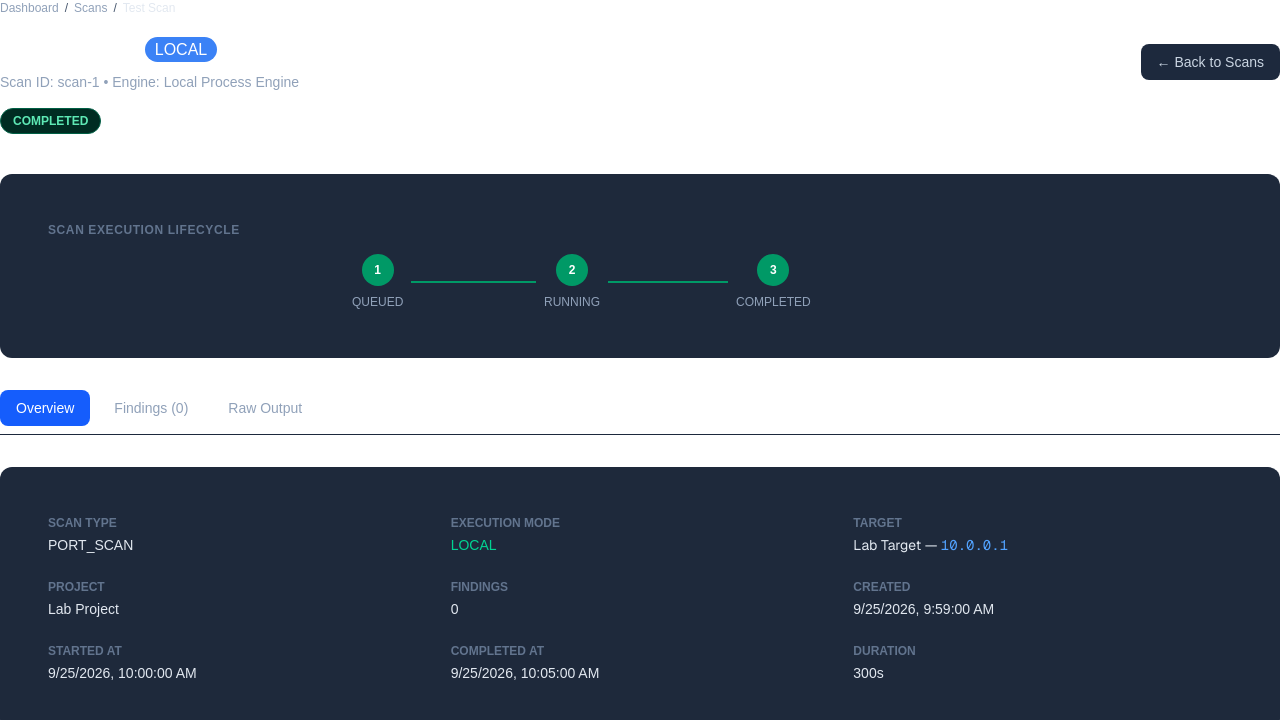
Scenario: ScanDetailPage failed-scan findings messaging › still shows the correct empty messaging for a COMPLETED scan
Click the button "Findings (0)" at coordinates (151, 408), box left=98, top=390, right=204, bottom=426
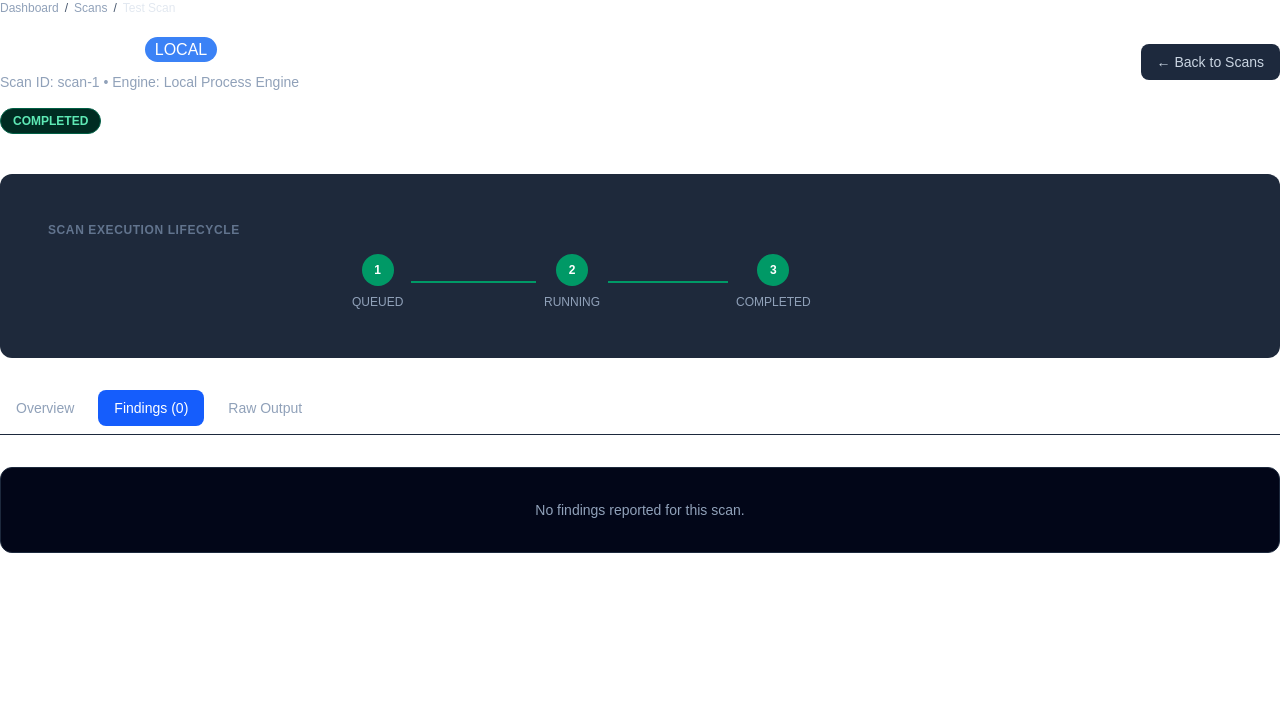
Expected: the text "No findings reported for this scan." is shown, left=535, top=502, right=745, bottom=518
